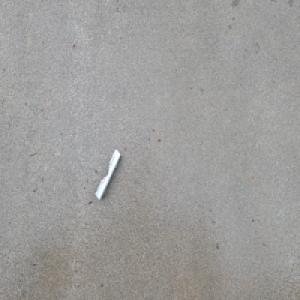ClampPart: (94, 147, 121, 203)
